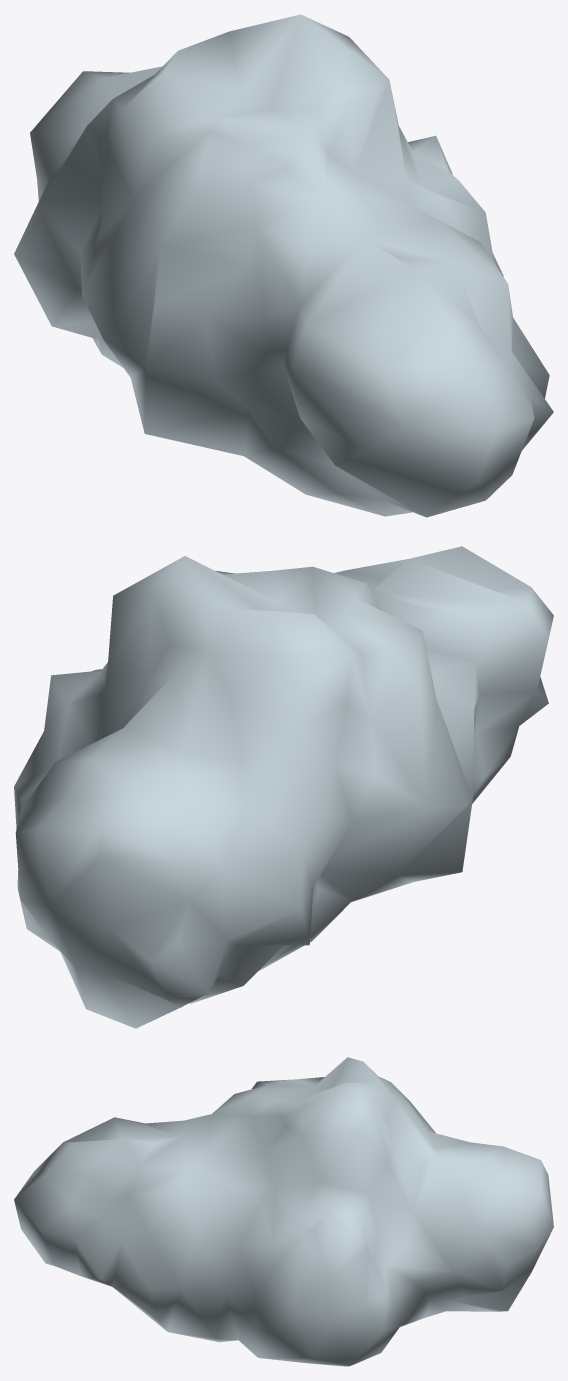
The model's file is clouds 5.fbx.
3 renders of one model, top to bottom at view 1: azimuth 30°, elevation 25°; view 2: azimuth 150°, elevation 25°; view 3: azimuth 270°, elevation 25°, orthographic. The views are drawn at different scales.
Parts seen in each view (by area): view 1: medium clouds 2; view 2: medium clouds 2; view 3: medium clouds 2.
Boxes of the visible parts, x1=… form: medium clouds 2: x1=14, y1=14, x2=553, y2=517; medium clouds 2: x1=14, y1=546, x2=553, y2=1028; medium clouds 2: x1=14, y1=1057, x2=553, y2=1366.
Size of the model in its own units: 1628 by 1523 by 2879.
